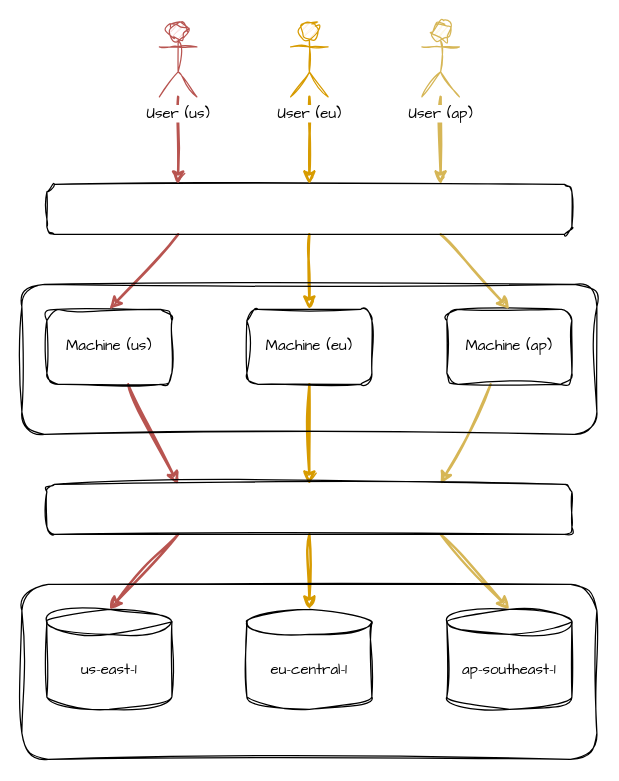
This 619x781 diagram has some shape labels left out. Each missing label, with the box of its shape:
CockroachDB Cluster: (21, 583, 597, 759)
Fly.io App: (21, 283, 597, 434)
Load Balancer (app): (46, 183, 572, 234)
Load Balancer (db): (46, 483, 572, 534)
